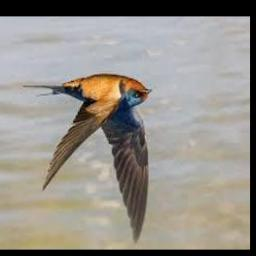Swallow: (23, 75, 153, 244)
